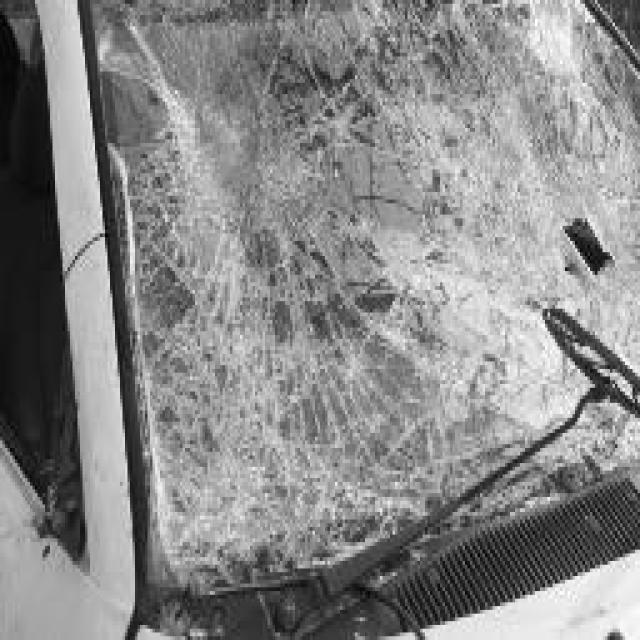Windshield: (70, 0, 640, 580)
